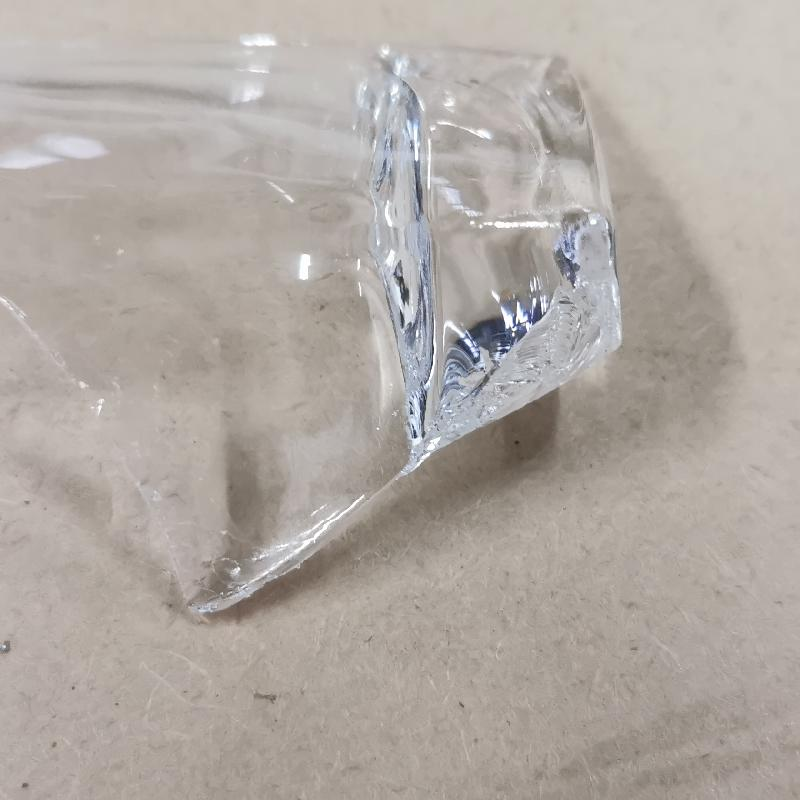glass: (12, 40, 626, 616)
